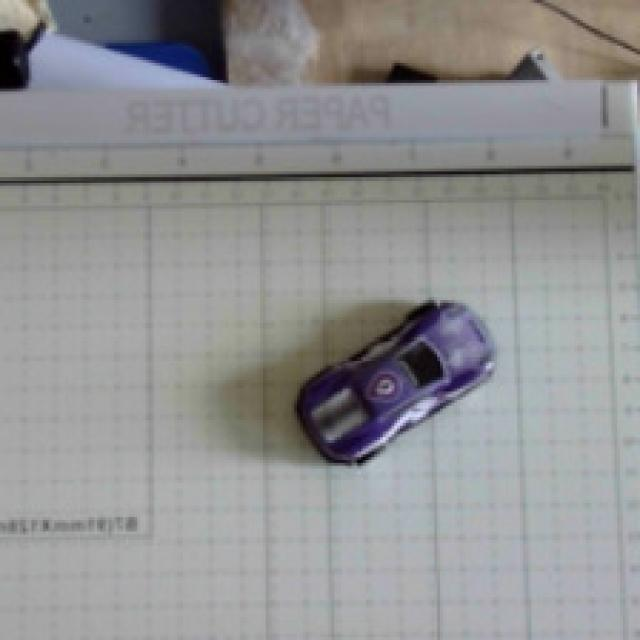Purple Car: (238, 247, 548, 516)
